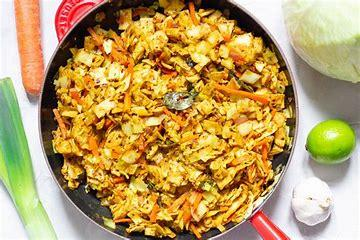Kottu: (46, 16, 296, 234)
